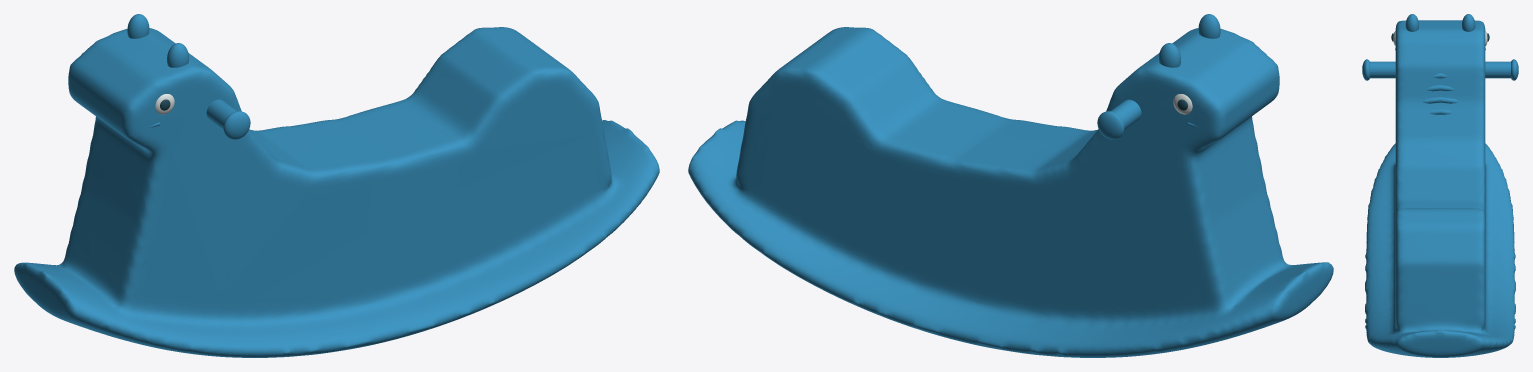
Rendered from A-NEW-20261026-ROCKING-HORSE-001_LOD1_R5.glb.
3 renders of one model, left to right at view 1: azimuth 30°, elevation 25°; view 2: azimuth 150°, elevation 25°; view 3: azimuth 270°, elevation 25°, orthographic. The views are drawn at different scales.
Visible parts, largest first — view 1: molded blue horse body, handhold end -1, transverse molded handhold; view 2: molded blue horse body, handhold end 1, transverse molded handhold; view 3: molded blue horse body, transverse molded handhold, shallow ear -1, shallow ear 1, shallow mane ridge 2, handhold end -1, handhold end 1, shallow mane ridge 1.
Boxes of the visible parts, box(x1,y1,x2,y2) form: molded blue horse body: box(14, 27, 659, 357); handhold end -1: box(223, 111, 250, 139); transverse molded handhold: box(206, 99, 236, 129); molded blue horse body: box(688, 27, 1333, 357); handhold end 1: box(1097, 111, 1124, 139); transverse molded handhold: box(1111, 99, 1141, 129); molded blue horse body: box(1365, 20, 1515, 357); transverse molded handhold: box(1370, 61, 1510, 78); shallow ear -1: box(1405, 14, 1418, 31); shallow ear 1: box(1462, 14, 1475, 31); shallow mane ridge 2: box(1422, 96, 1458, 103); handhold end -1: box(1362, 59, 1369, 80); handhold end 1: box(1511, 59, 1518, 80); shallow mane ridge 1: box(1427, 84, 1453, 91).
Size of the model in its own units: 0.81 by 0.4351 by 0.2622.
